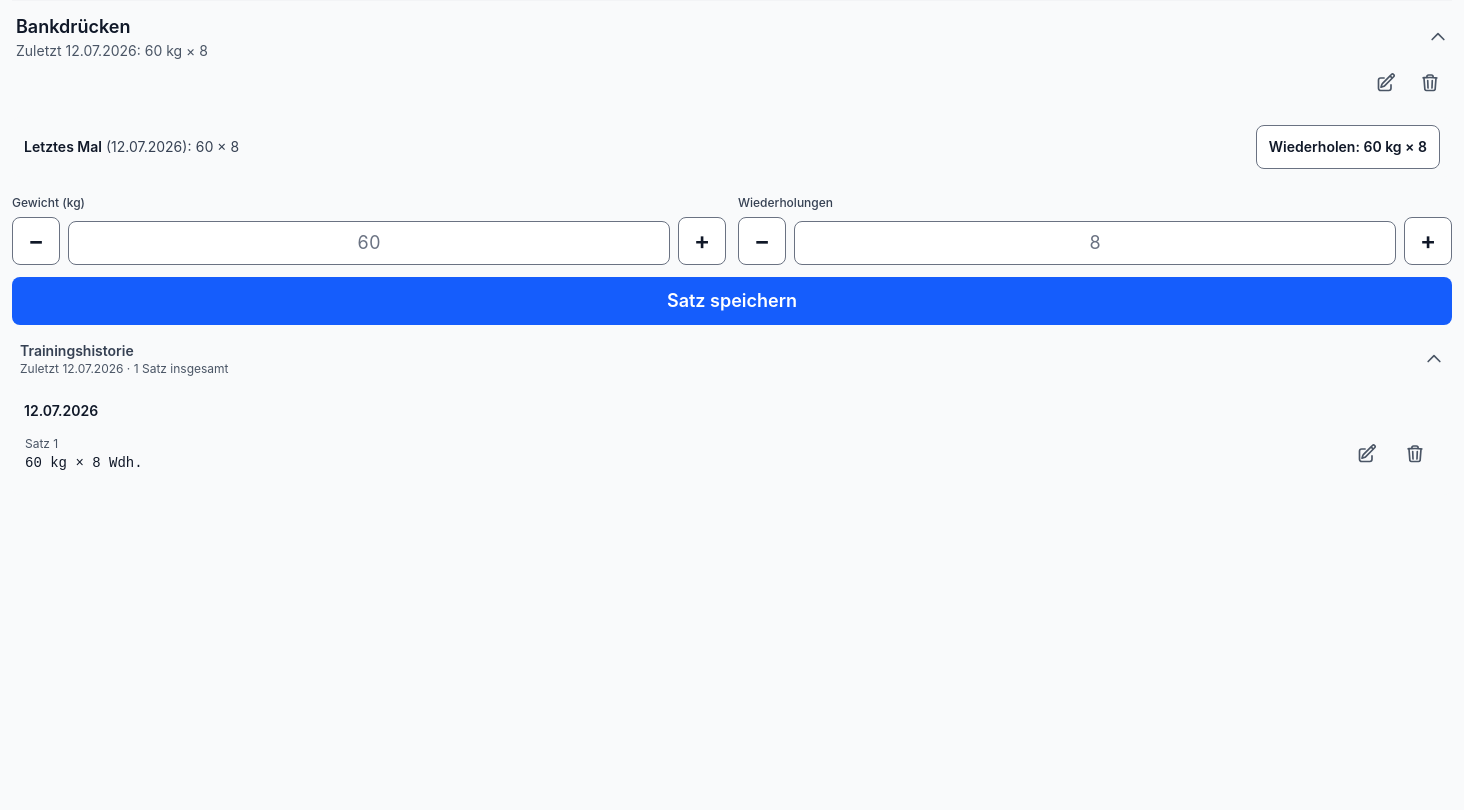
ExerciseCard › names set buttons with their date and returns focus after editing
This screenshot has width=1464, height=810.
Click the button with id "set-edit-btn-set-1".
click(1367, 454)  # box [1343,430,1391,478]
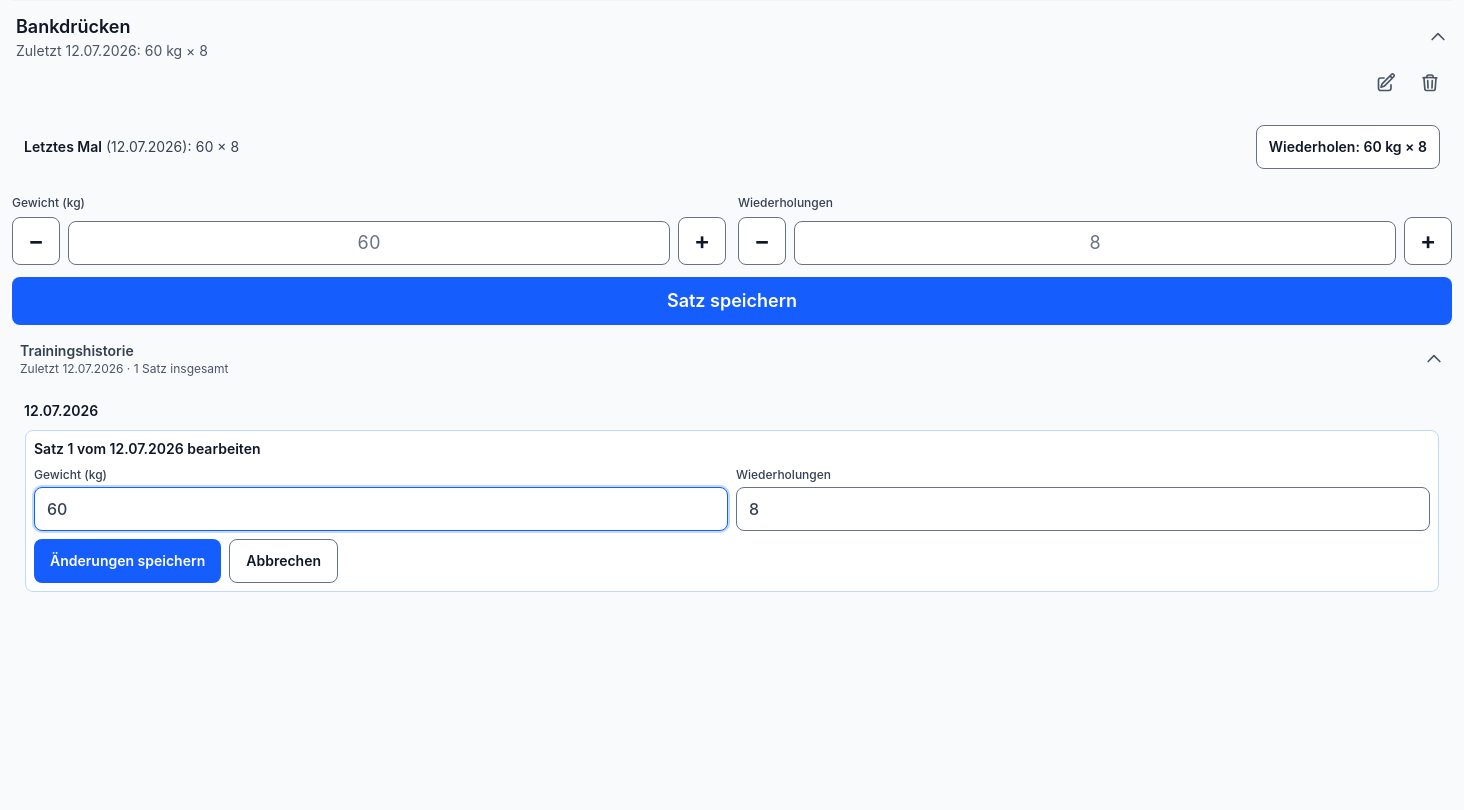
Replace the text in the field with id "set-edit-weight-set-1" with "62,5" at x=381, y=509, box [34,487,728,531]
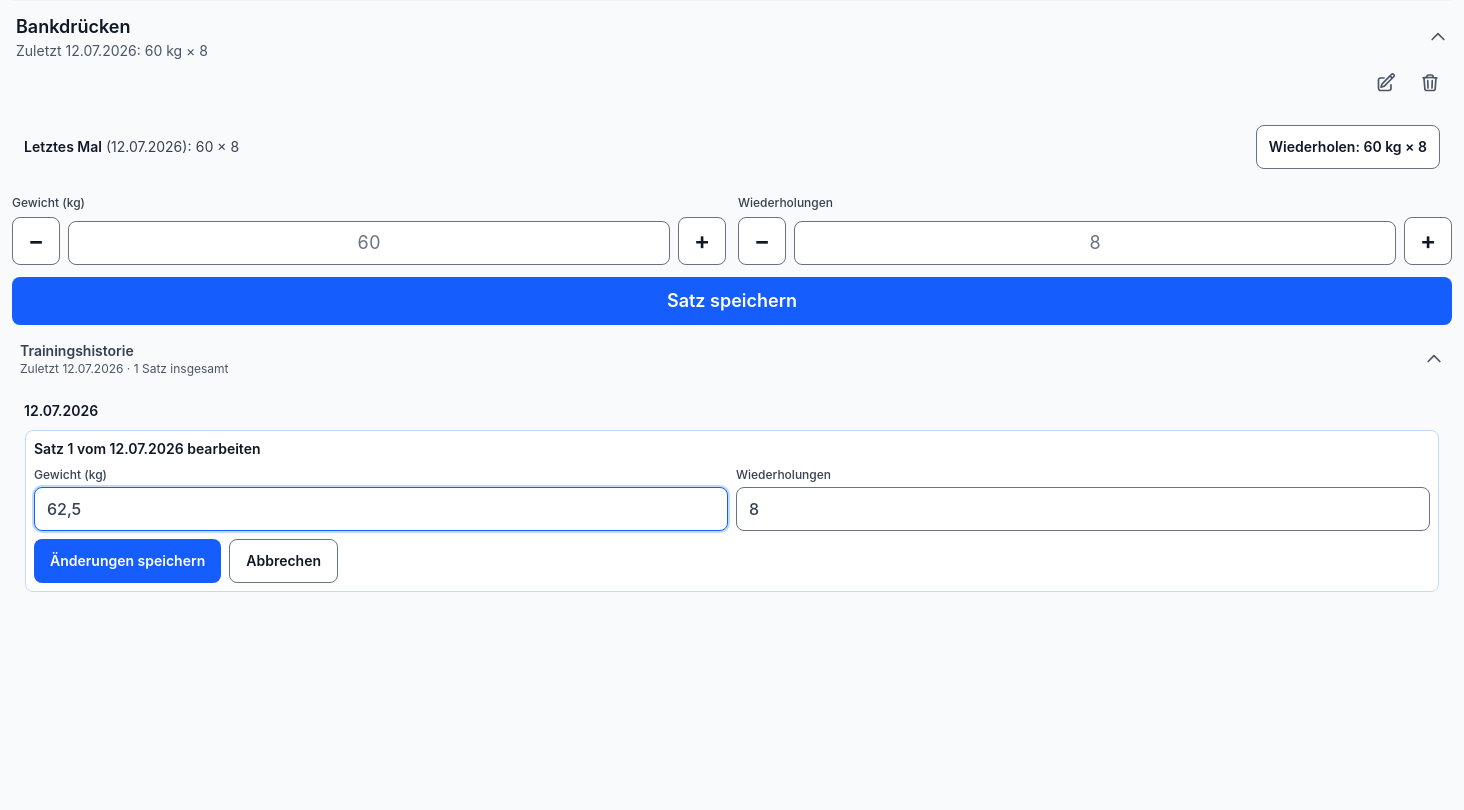
Submit the form with id "set-edit-weight-set-1", box [25,430,1439,592]
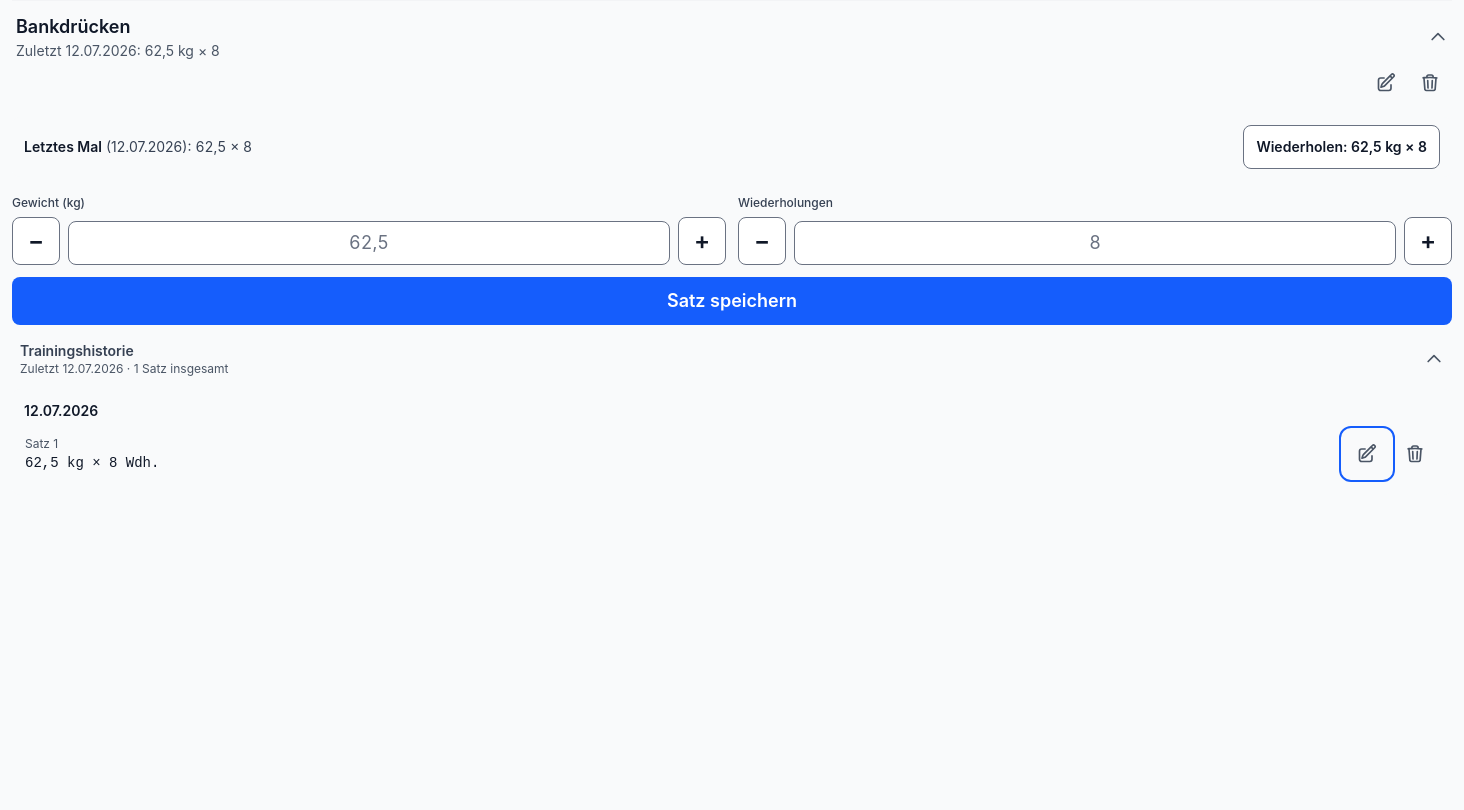
Now the text "62,5 kg × 8 Wdh." is shown, box [25,452,159,472]
